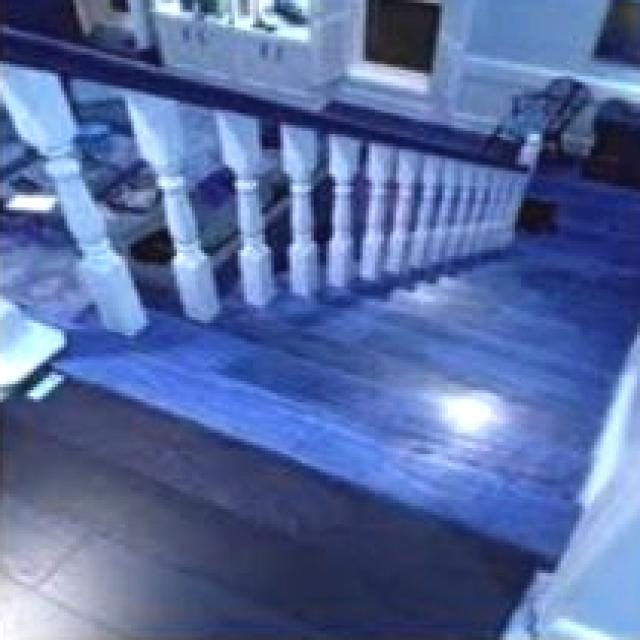downstair: (62, 236, 571, 544)
